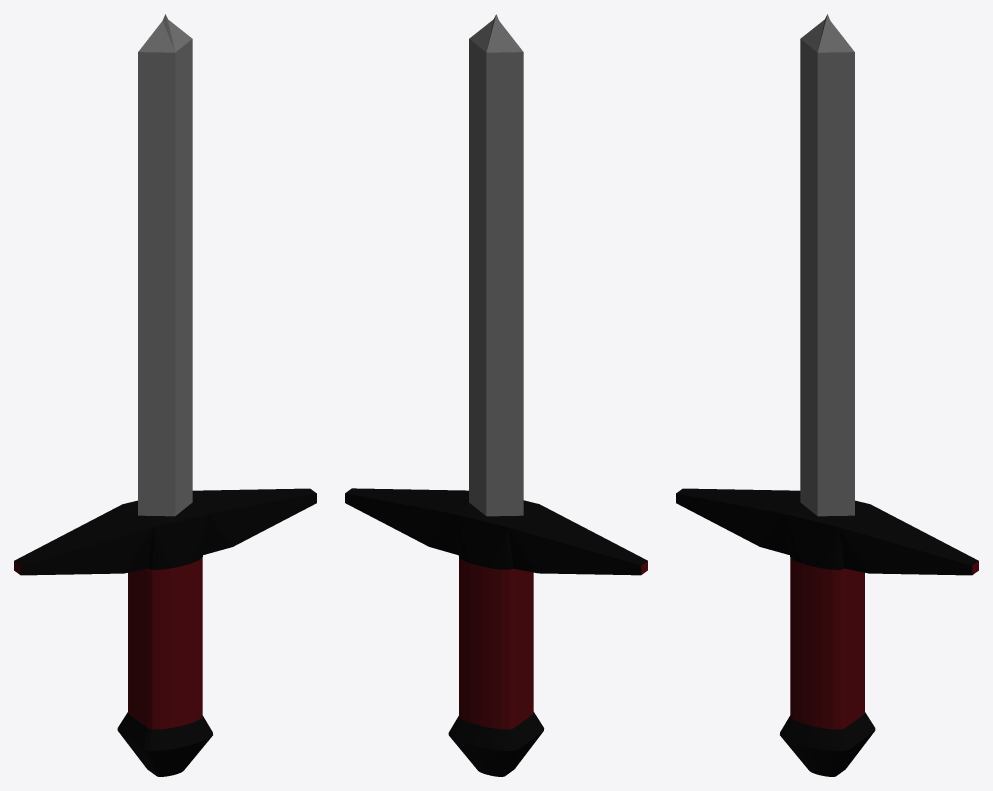
The model's file is sword.dae.
The picture shows the model from 3 angles, left to right: view 1: azimuth 30°, elevation 25°; view 2: azimuth 150°, elevation 25°; view 3: azimuth 330°, elevation 25°; orthographic projection.
Parts seen in each view (by area): view 1: Куб; view 2: Куб; view 3: Куб.
Part boxes in pixels (x1,y1,x2,y2): Куб: (14, 14, 316, 776); Куб: (345, 14, 647, 776); Куб: (676, 14, 978, 776).
Bounding box in the file's own units: 10.87 × 2.57 × 26.49.
